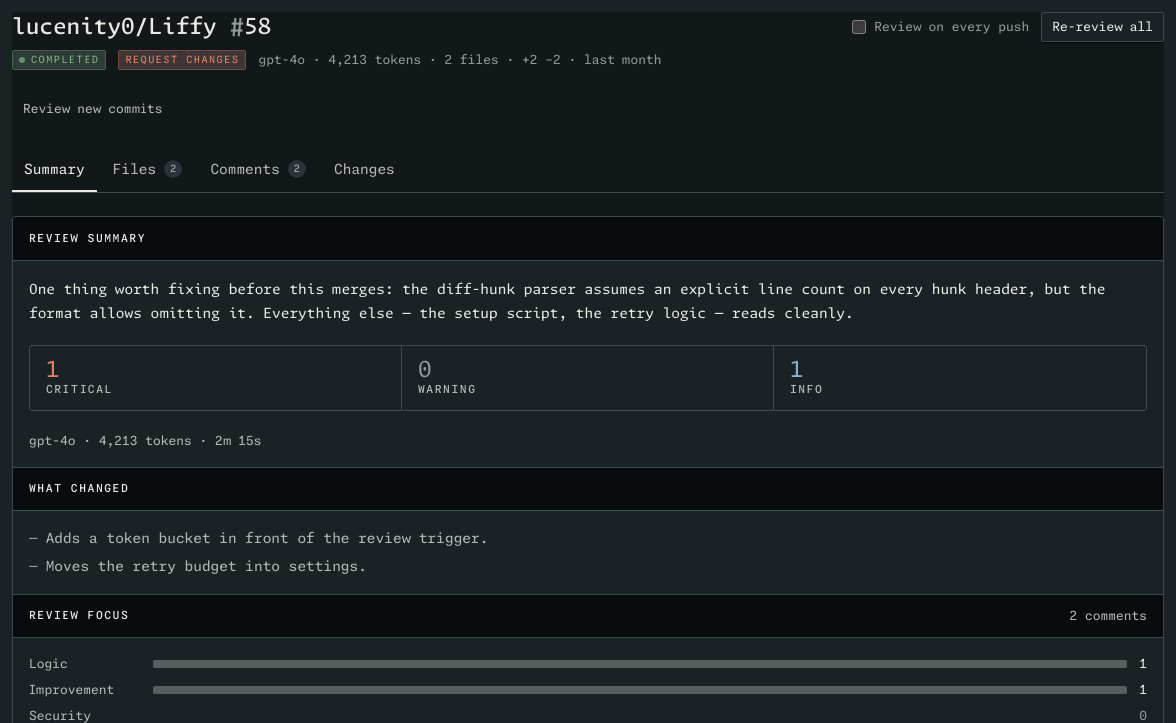
Scenario: ReviewDetail — completed › shows a suggestion block only for the comments that have one
The image size is (1176, 723).
Click the tab "Comments 2".
click(258, 170)  # box [198,148,318,192]
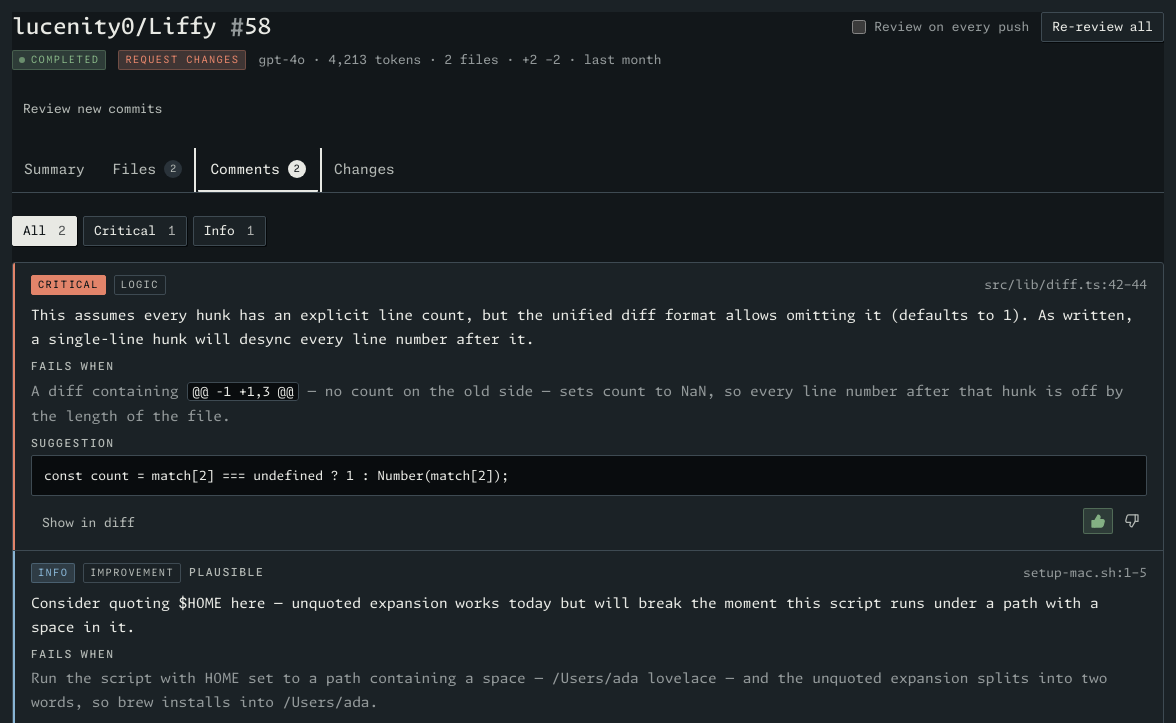
Result: the text "const count = match[2] === undefined ? 1 : Number(match[2]);" is shown at [44,468,509,483]
